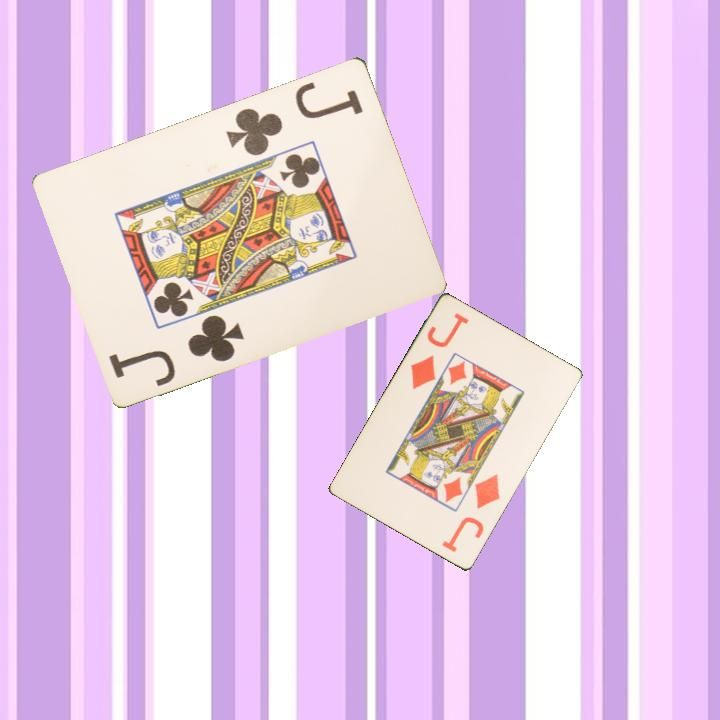Jc: (223, 77, 366, 158), (105, 310, 247, 389)
Jd: (438, 470, 503, 556), (407, 309, 472, 393)
